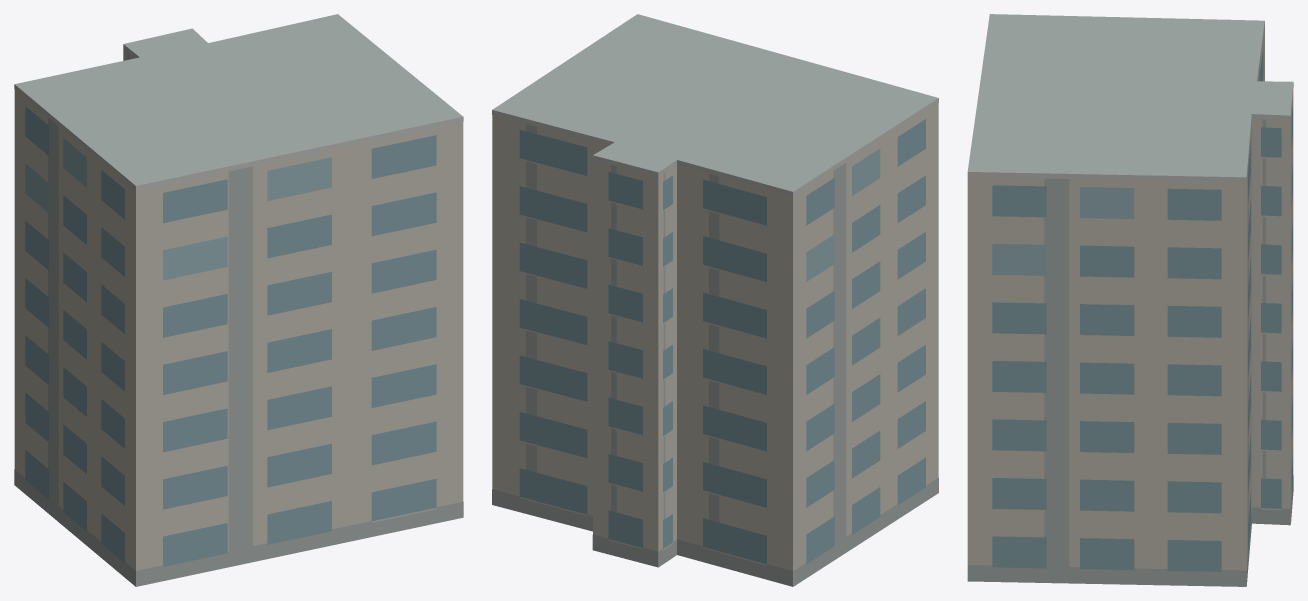
File: survey-upis-32860282.glb
3 renders of one model, left to right at view 1: azimuth 30°, elevation 25°; view 2: azimuth 150°, elevation 25°; view 3: azimuth 270°, elevation 25°, orthographic. The views are drawn at different scales.
Visible parts, largest first — view 1: survey-upis-32860282.tmp; view 2: survey-upis-32860282.tmp; view 3: survey-upis-32860282.tmp.
Boxes of the visible parts, <box> form: survey-upis-32860282.tmp: <box>14,14,463,586</box>; survey-upis-32860282.tmp: <box>492,14,938,586</box>; survey-upis-32860282.tmp: <box>967,14,1293,586</box>.
Size of the model in its own units: 16.52 by 19.3 by 13.93.
